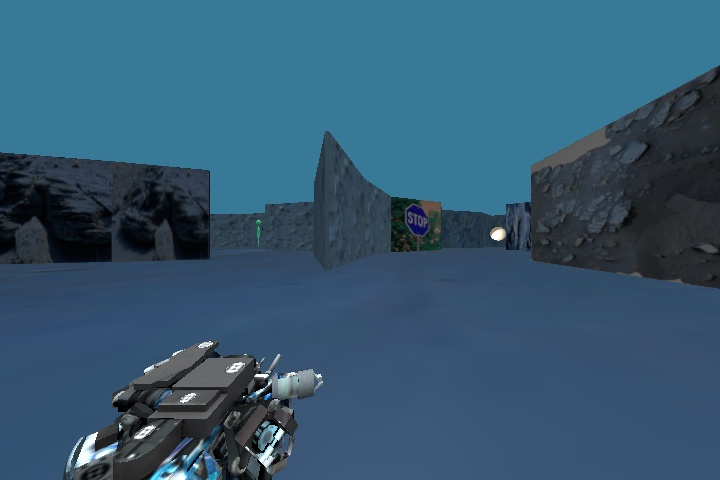green_alien: (254, 215, 266, 246)
stop_sign: (403, 198, 432, 239)
white_sphere: (480, 223, 512, 246)
